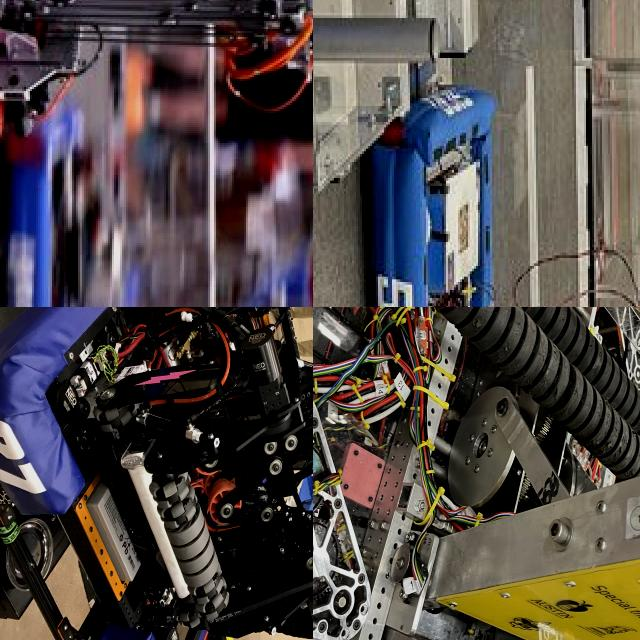FRC-Robots: (313, 307, 640, 640), (0, 307, 313, 640), (313, 11, 640, 307), (0, 0, 313, 266)
